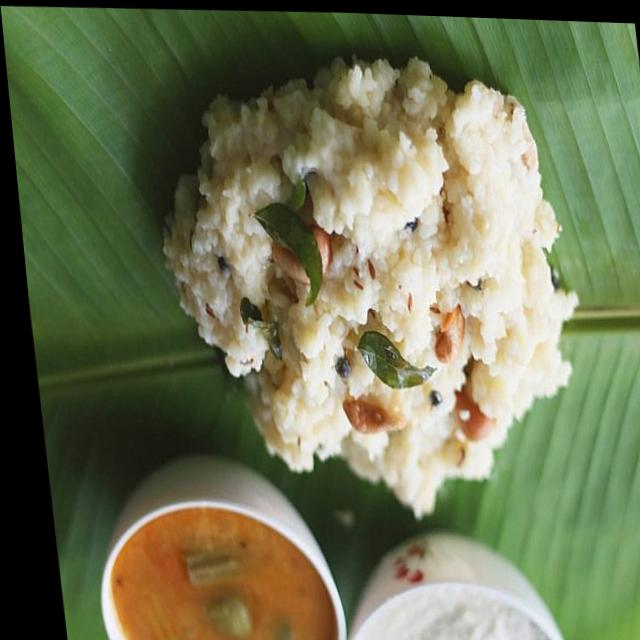PONGAL: (138, 29, 610, 504)
SAMBAR: (108, 487, 340, 640)
WHITE CHUTNEY: (359, 582, 550, 640)
